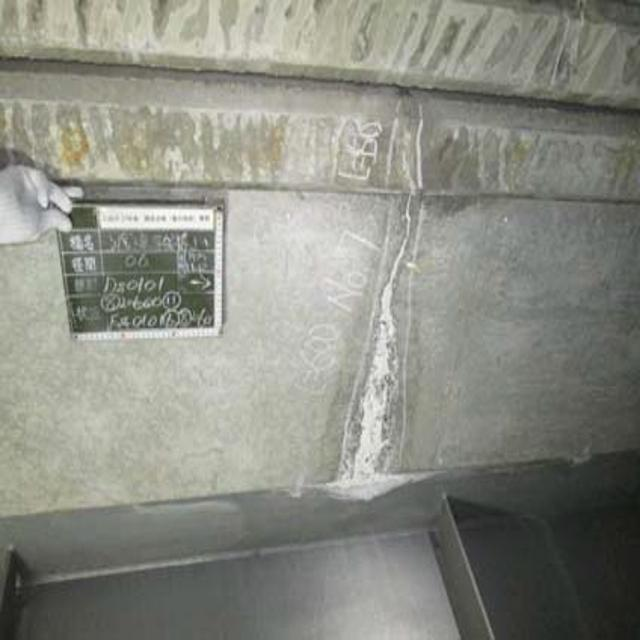freelime: (327, 267, 443, 502)
